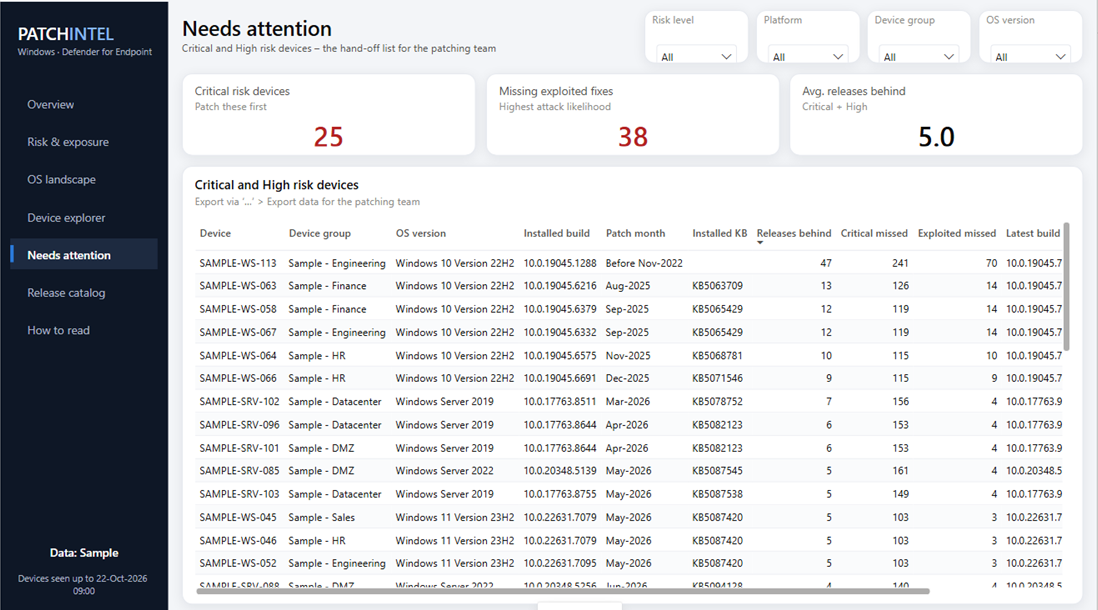

The dashboard page shown, as its layout file describes it:
{"tool":"powerbi","page":{"name":"Needs attention","canvas":[1280,720],"ordinal":4},"visuals":[{"type":"textbox","box":[0,0,196,720],"z":0},{"type":"textbox","box":[20,22,164,52],"z":1000},{"type":"actionButton","box":[12,100,172,36],"z":2000},{"type":"actionButton","box":[12,144,172,36],"z":3000},{"type":"actionButton","box":[12,188,172,36],"z":4000},{"type":"actionButton","box":[12,232,172,36],"z":5000},{"type":"textbox","box":[12,276,172,36],"z":6000},{"type":"textbox","box":[12,284,4,20],"z":7000},{"type":"actionButton","box":[12,276,172,36],"z":8000},{"type":"actionButton","box":[12,320,172,36],"z":9000},{"type":"actionButton","box":[12,364,172,36],"z":10000},{"type":"card","fields":{"Values":["DevicePatchLevel.Data Source Label"]},"box":[12,628,172,34],"z":11000},{"type":"card","fields":{"Values":["DevicePatchLevel.Data As Of"]},"box":[12,658,172,44],"z":12000},{"type":"textbox","box":[212,14,520,56],"z":13000},{"type":"slicer","title":"Risk level","fields":{"Values":["DevicePatchLevel.RiskLevel"]},"box":[752,10,122,62],"z":14000},{"type":"slicer","title":"Platform","fields":{"Values":["DevicePatchLevel.Platform"]},"box":[882,10,122,62],"z":15000},{"type":"slicer","title":"Device group","fields":{"Values":["DevicePatchLevel.MachineGroup"]},"box":[1012,10,122,62],"z":16000},{"type":"slicer","title":"OS version","fields":{"Values":["DevicePatchLevel.OS"]},"box":[1142,10,122,62],"z":17000},{"type":"card","title":"Critical risk devices","fields":{"Values":["DevicePatchLevel.Devices Critical Risk"]},"box":[212,84,342.7,96],"z":18000},{"type":"card","title":"Missing exploited fixes","fields":{"Values":["DevicePatchLevel.Devices Missing Exploited CVEs"]},"box":[566.7,84,342.7,96],"z":19000},{"type":"card","title":"Avg. releases behind","fields":{"Values":["DevicePatchLevel.Avg Patches Behind"]},"box":[921.3,84,342.7,96],"z":20000},{"type":"tableEx","title":"Critical and High risk devices","fields":{"Values":["DevicePatchLevel.DeviceName","DevicePatchLevel.MachineGroup","DevicePatchLevel.OSName","DevicePatchLevel.DeviceOSBuild","DevicePatchLevel.PatchMonth","DevicePatchLevel.InstalledSecurityKB","DevicePatchLevel.PatchesBehind","DevicePatchLevel.CriticalCVEsMissed","DevicePatchLevel.ExploitedCVEsMissed","DevicePatchLevel.LatestBuild","DevicePatchLevel.RiskLevel","DevicePatchLevel.LastSeen"]},"box":[212,192,1052,512],"z":21000}]}

Visuals, with their boxes on the page's 1280x720 design canvas (x1, y1, x2, y2). These are canvas units, not pixel positions in the 1098x610 screenshot, which may show the page scaled, cropped or inside an application window:
textbox: 0:0:196:720
textbox: 20:22:184:74
actionButton: 12:100:184:136
actionButton: 12:144:184:180
actionButton: 12:188:184:224
actionButton: 12:232:184:268
textbox: 12:276:184:312
textbox: 12:284:16:304
actionButton: 12:276:184:312
actionButton: 12:320:184:356
actionButton: 12:364:184:400
card - DevicePatchLevel.Data Source Label: 12:628:184:662
card - DevicePatchLevel.Data As Of: 12:658:184:702
textbox: 212:14:732:70
"Risk level" slicer: 752:10:874:72
"Platform" slicer: 882:10:1004:72
"Device group" slicer: 1012:10:1134:72
"OS version" slicer: 1142:10:1264:72
"Critical risk devices" card: 212:84:555:180
"Missing exploited fixes" card: 567:84:909:180
"Avg. releases behind" card: 921:84:1264:180
"Critical and High risk devices" tableEx: 212:192:1264:704
